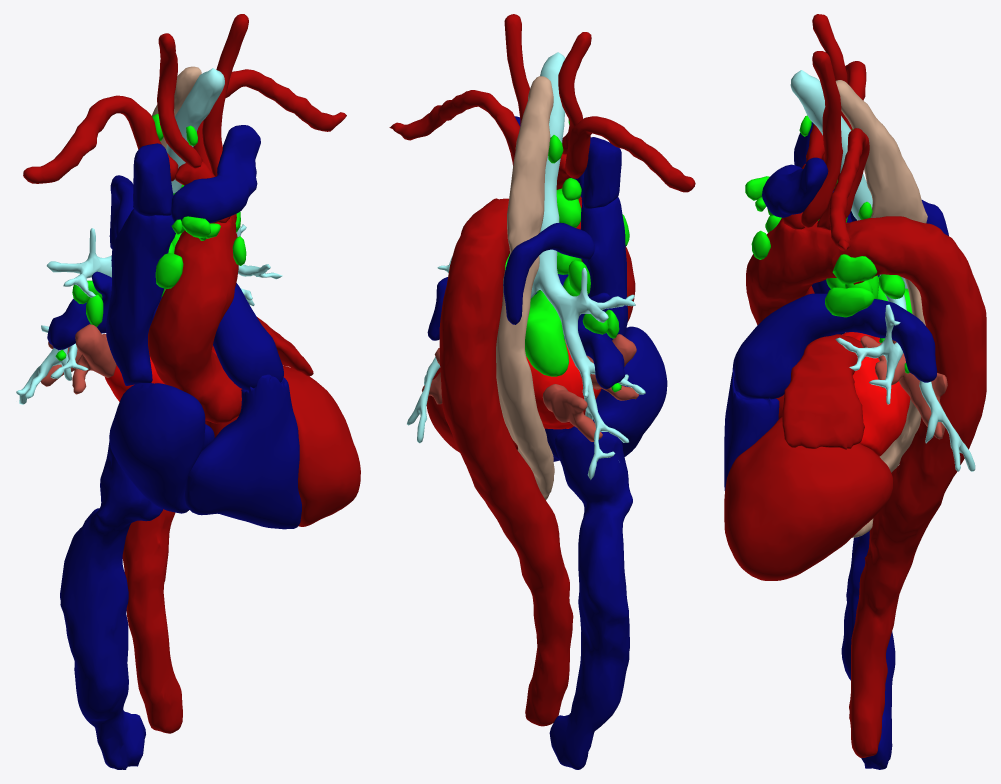
File: CT_segmentation_1.glb
3 renders of one model, left to right at view 1: azimuth 30°, elevation 25°; view 2: azimuth 150°, elevation 25°; view 3: azimuth 270°, elevation 25°, orthographic. The views are drawn at different scales.
Parts seen in each view (by area): view 1: aorta, inferior vena cava, right ventricle, right atrium, superior vena cava, left ventricle, pulmonary artery, airway, left brachiocephalic vein, right subclavian artery, left subclavian artery, right brachiocephalic vein (+10 smaller); view 2: aorta, inferior vena cava, esophagus, airway, right atrium, superior vena cava, right subclavian artery, azygous vein, pulmonary venous system, Station 7, left subclavian artery, pulmonary artery (+7 smaller); view 3: aorta, left ventricle, pulmonary artery, left atrial appendage, esophagus, airway, left atrium, inferior vena cava, left common carotid artery, right ventricle, left subclavian artery, left brachiocephalic vein (+8 smaller).
Part boxes in pixels (x1,y1,x2,y2): aorta: (122,214,242,733); inferior vena cava: (60,440,162,769); right ventricle: (184,374,301,529); right atrium: (109,383,214,513); superior vena cava: (106,209,175,385); left ventricle: (205,366,360,526); pulmonary artery: (47,271,283,390); airway: (16,68,282,404); left brachiocephalic vein: (171,125,260,222); right subclavian artery: (23,95,178,183); left subclavian artery: (193,69,346,171); right brachiocephalic vein: (133,143,173,216); aorta: (439,196,635,726); inferior vena cava: (549,426,632,769); esophagus: (496,76,554,499); airway: (407,52,645,479); right atrium: (545,326,667,460); superior vena cava: (580,197,627,340); right subclavian artery: (565,116,695,192); azygous vein: (503,222,594,324); pulmonary venous system: (422,334,638,441); Station 7: (525,290,568,376); left subclavian artery: (389,90,519,165); pulmonary artery: (427,274,624,389); aorta: (746,216,986,757); left ventricle: (724,417,892,580); pulmonary artery: (734,275,937,399); left atrial appendage: (782,334,865,449); esophagus: (835,80,927,537); airway: (790,70,975,471); left atrium: (842,332,910,456); inferior vena cava: (841,531,895,769); left common carotid artery: (801,51,842,227); right ventricle: (724,369,779,490); left subclavian artery: (817,128,869,250); left brachiocephalic vein: (762,157,828,217).
Size of the model in its own units: 0.1796 by 0.3993 by 0.125.
